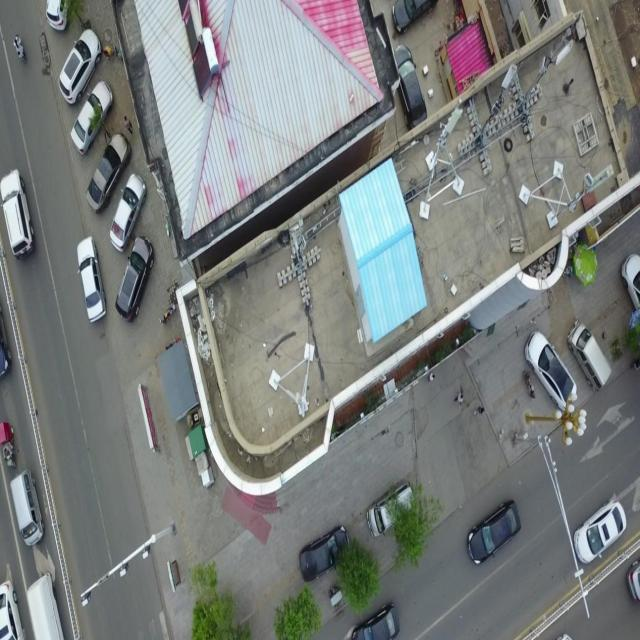p3rson: (122, 114, 132, 134), (472, 402, 484, 416), (453, 390, 464, 405), (425, 370, 435, 381)
